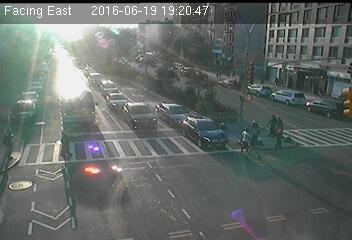neg: (166, 66, 178, 83), (224, 54, 234, 68), (141, 63, 150, 76)
pos: (51, 129, 76, 164), (241, 113, 266, 146), (235, 127, 255, 153), (270, 129, 285, 149), (273, 111, 288, 130), (267, 110, 280, 127)
